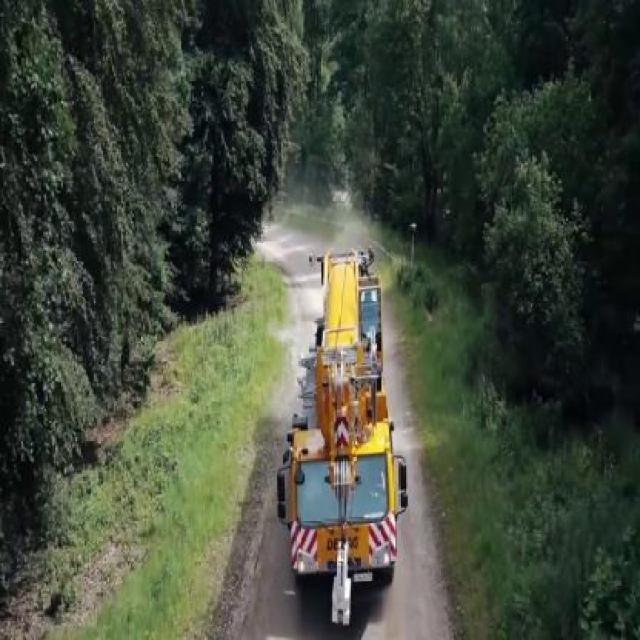Mobile Crane: (278, 245, 400, 627)
